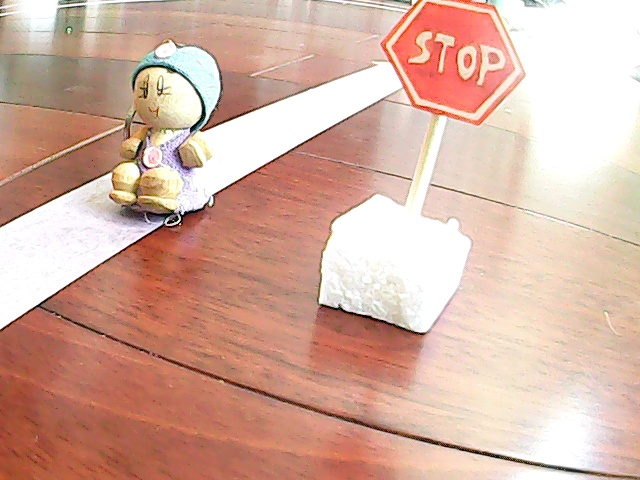pedestrain: (106, 40, 224, 234)
stop: (332, 1, 521, 341)
